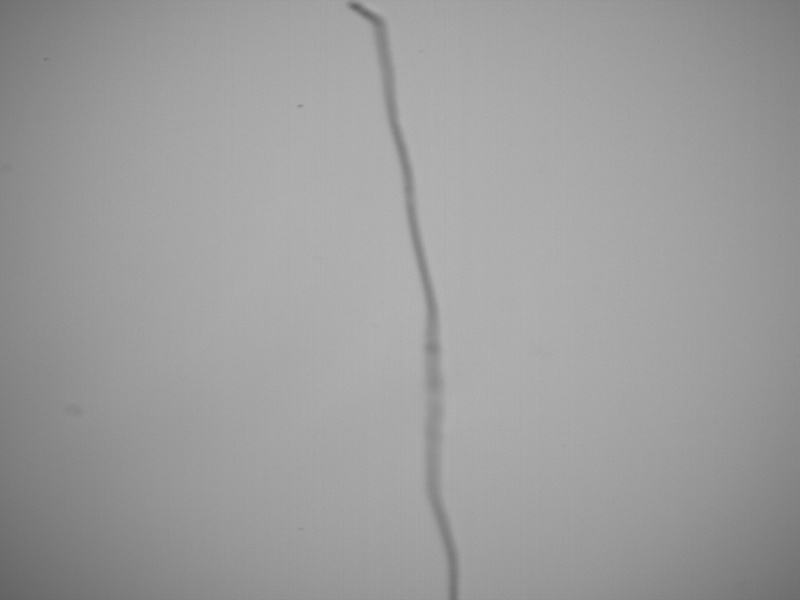fiber: (340, 1, 467, 600)
